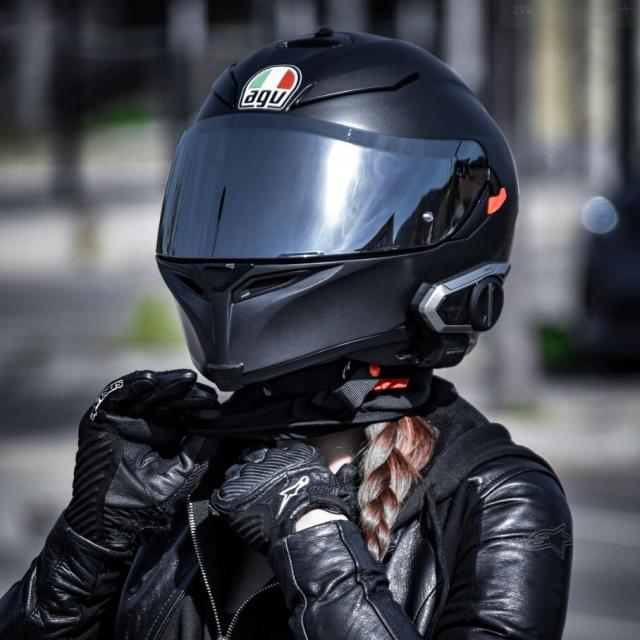helmet: (147, 19, 525, 398)
